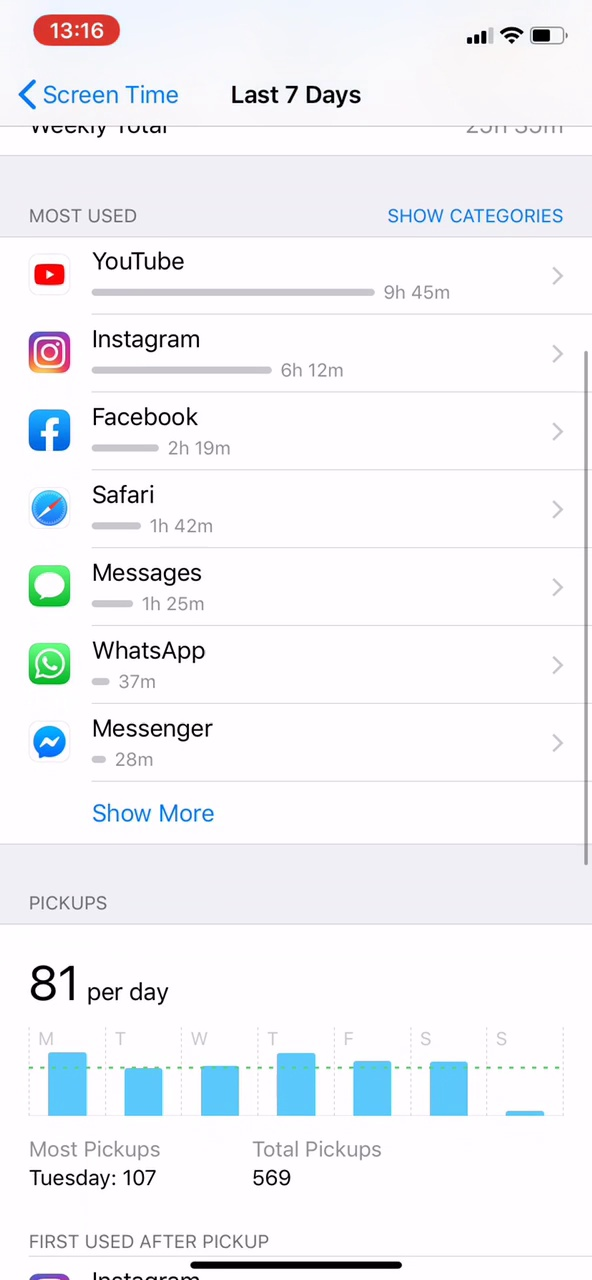pick_over: (15, 1135, 459, 1213)
week: (211, 75, 376, 118)
